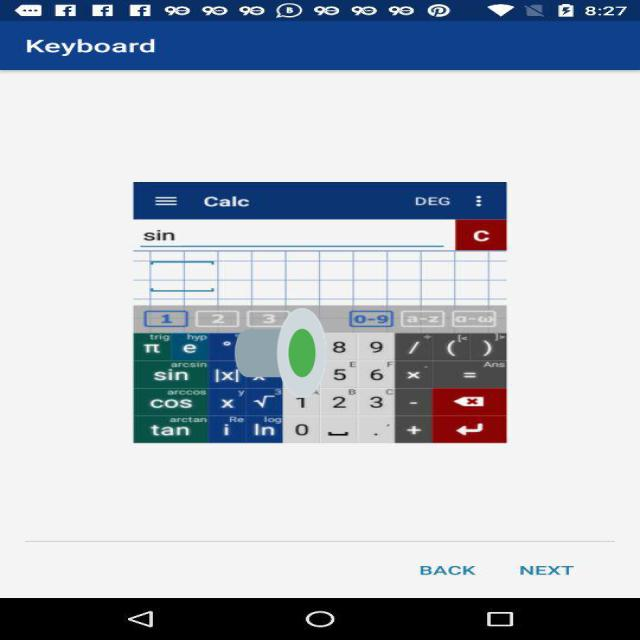social proof: (235, 270, 327, 436)
